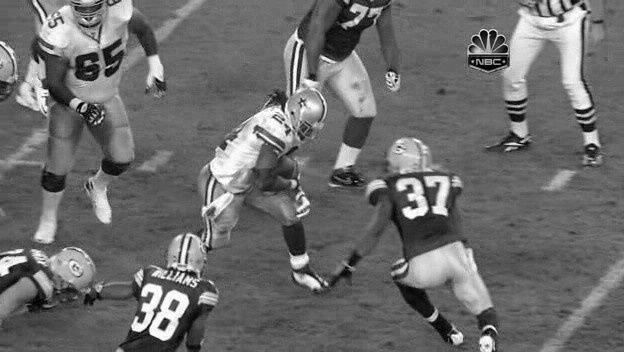person: (290, 95, 325, 139), (289, 95, 324, 139), (291, 95, 326, 139), (290, 94, 325, 138), (290, 96, 325, 140)
target_negative: (22, 277, 229, 308), (321, 284, 618, 303), (477, 222, 501, 337), (33, 351, 571, 352), (610, 170, 617, 173)
